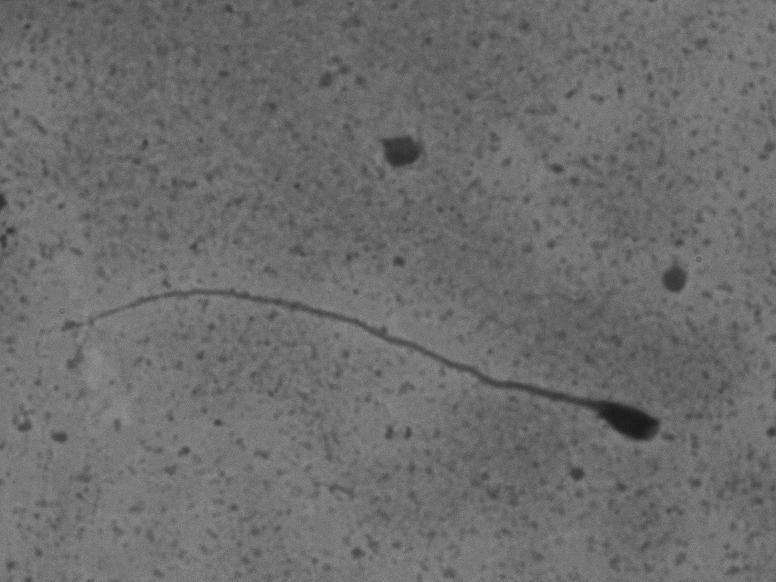Abnormal: (54, 264, 674, 473)
